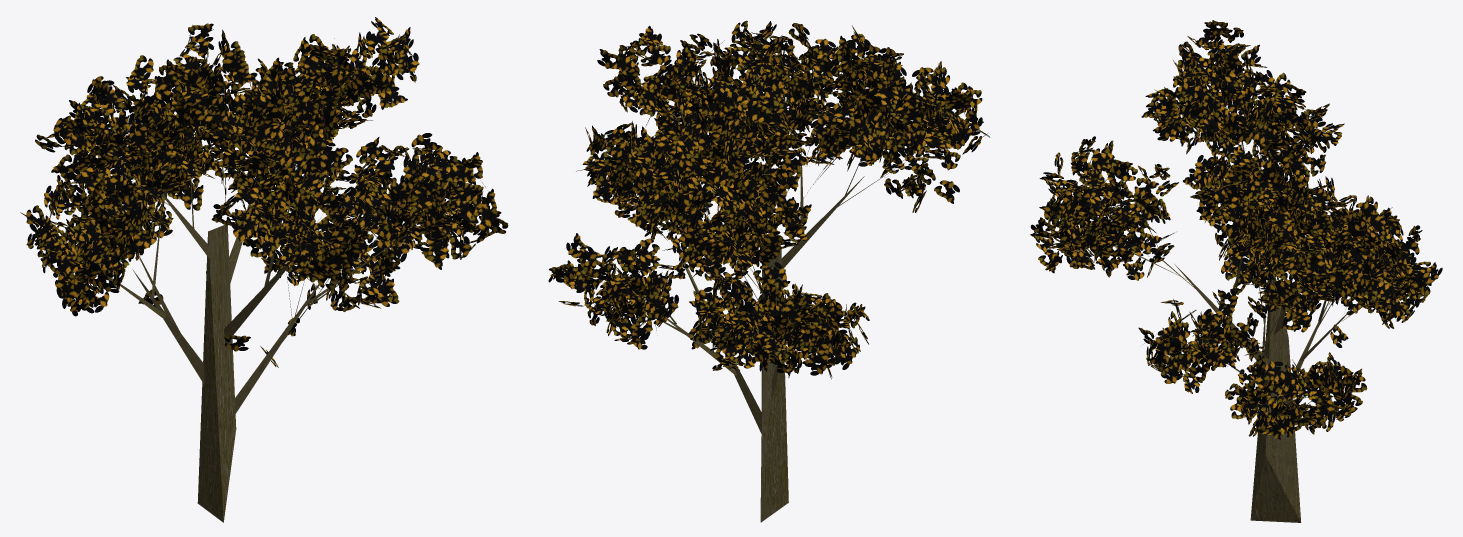
File: oak_broadleaf_v03_LOD2.fbx
3 views of the same model, side by side, from view 1: azimuth 30°, elevation 25°; view 2: azimuth 150°, elevation 25°; view 3: azimuth 270°, elevation 25° (orthographic). The views are drawn at different scales.
Visible parts, largest first — view 1: oak_broadleaf_v03_LOD2; view 2: oak_broadleaf_v03_LOD2; view 3: oak_broadleaf_v03_LOD2.
Part boxes in pixels (x1,y1,x2,y2): oak_broadleaf_v03_LOD2: (20, 17, 508, 522); oak_broadleaf_v03_LOD2: (548, 20, 989, 522); oak_broadleaf_v03_LOD2: (1030, 20, 1442, 522).
Size of the model in its own units: 2204 by 2049 by 2366.
Materials: 2 (2 with a texture image).
